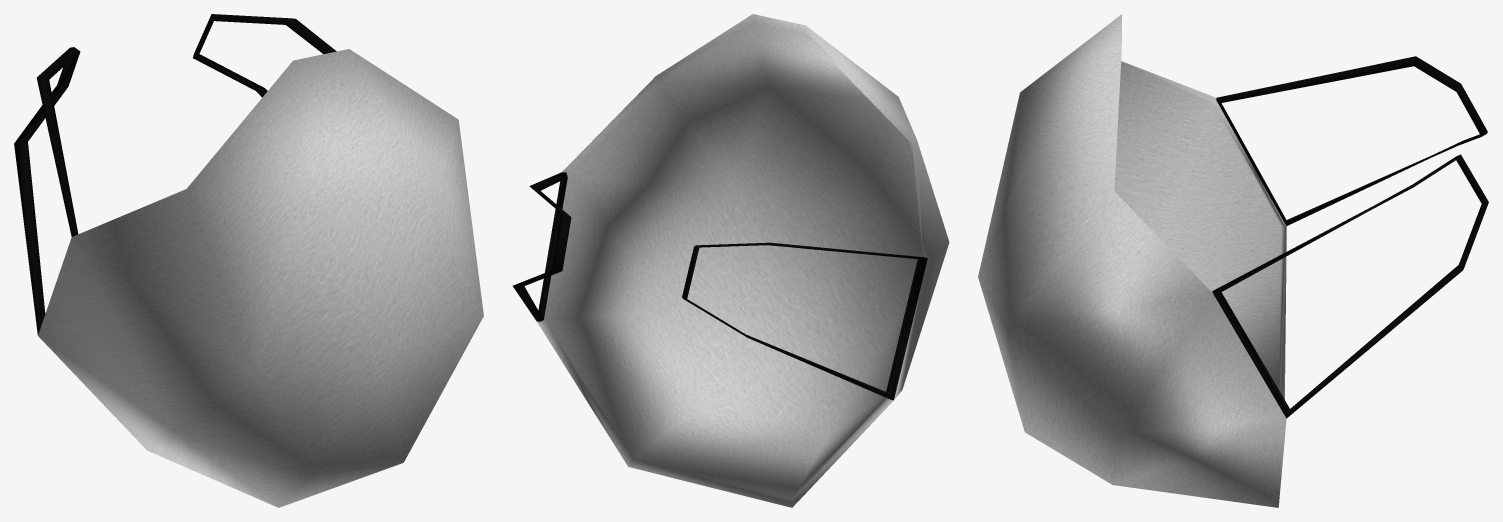
The picture shows the model from 3 angles, left to right: view 1: azimuth 30°, elevation 25°; view 2: azimuth 150°, elevation 25°; view 3: azimuth 270°, elevation 25°; orthographic projection. The views are drawn at different scales.
Parts seen in each view (by area): view 1: Mask_0; view 2: Mask_0; view 3: Mask_0.
Part boxes in pixels (bbox=[...]): Mask_0: bbox=[14, 14, 483, 507]; Mask_0: bbox=[512, 14, 949, 507]; Mask_0: bbox=[978, 14, 1488, 507].
Size of the model in its own units: 1.31 by 1.42 by 1.48.
Materials: 2 (1 with a texture image).
